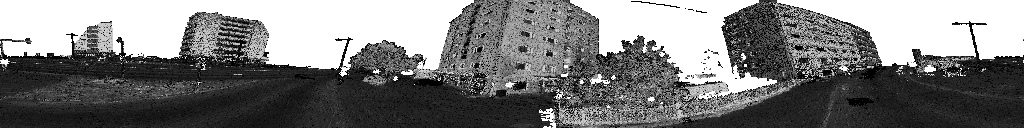gantry_sign_pole: (0, 39, 31, 73)
light_pole: (952, 22, 986, 73), (116, 38, 133, 82), (336, 37, 353, 66), (66, 34, 77, 61), (237, 41, 243, 60)
traffic_pole: (194, 61, 206, 90), (335, 68, 350, 86), (839, 67, 851, 80), (907, 63, 916, 77)
